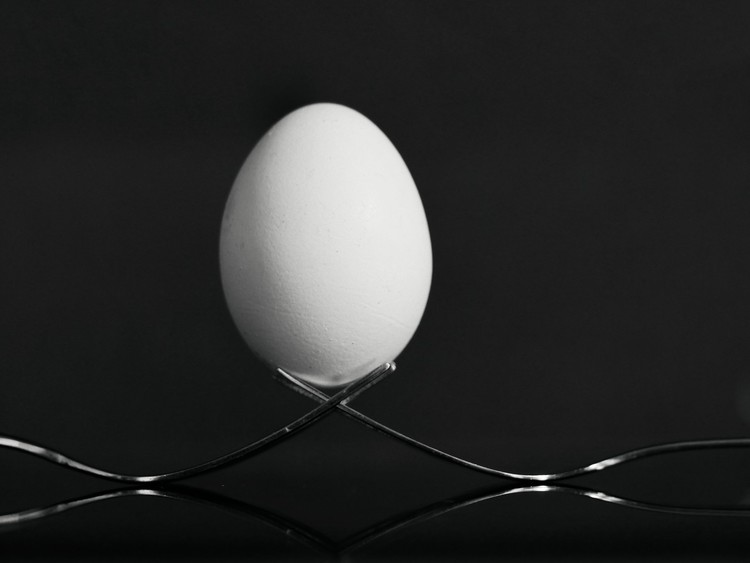Egg: (208, 91, 448, 397)
